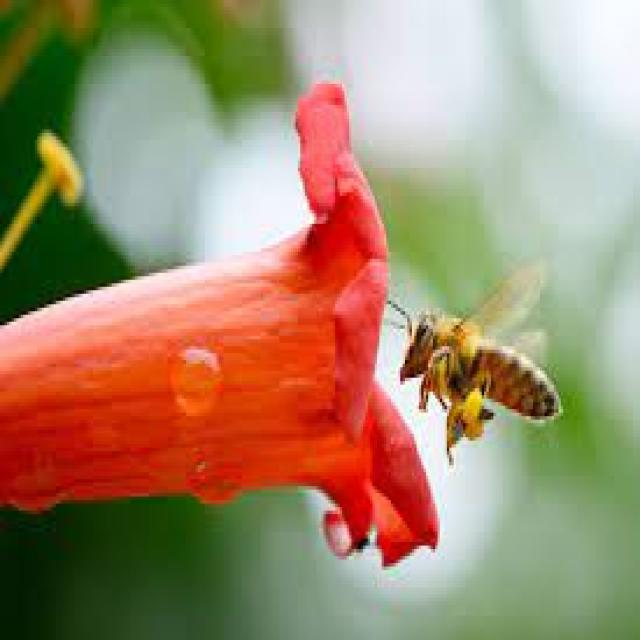Bees: (382, 260, 564, 466)
